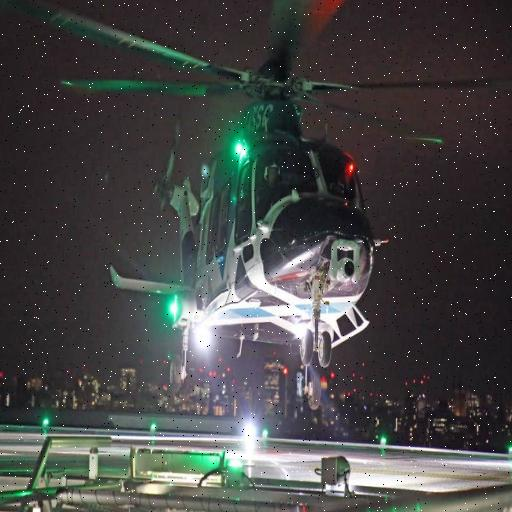helicopter: (30, 1, 488, 365)
